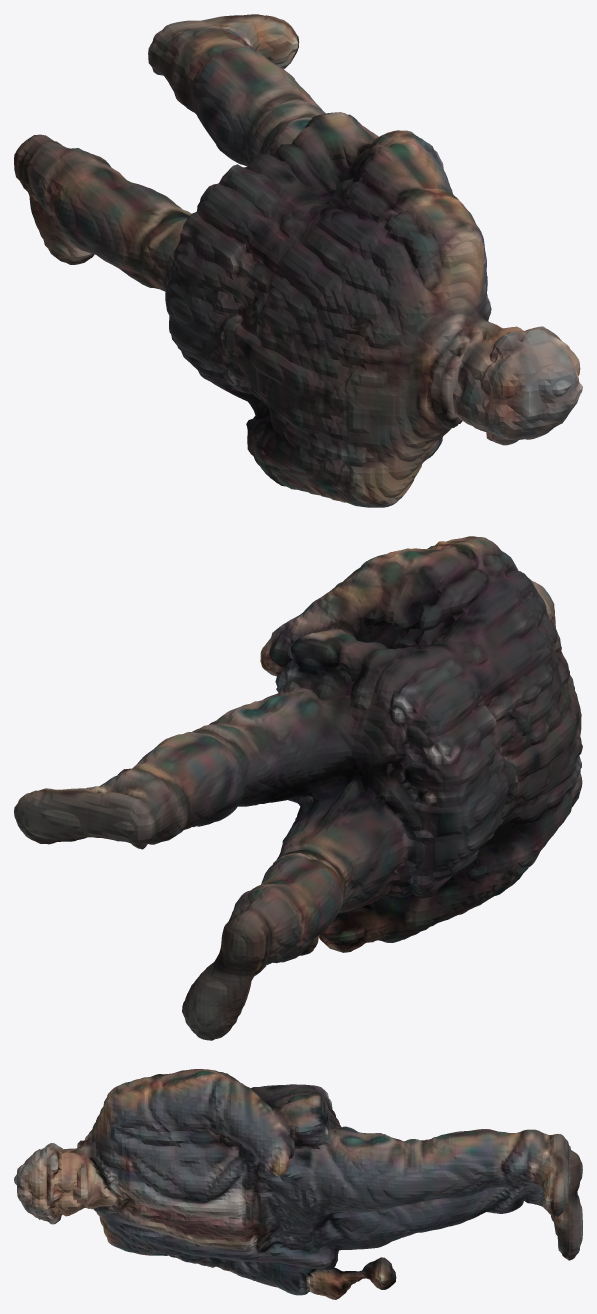
The picture shows the model from 3 angles, top to bottom: view 1: azimuth 30°, elevation 25°; view 2: azimuth 150°, elevation 25°; view 3: azimuth 270°, elevation 25°; orthographic projection. The views are drawn at different scales.
Visible parts, largest first — view 1: world; view 2: world; view 3: world.
Part boxes in pixels (bbox=[...]): world: bbox=[14, 14, 582, 507]; world: bbox=[14, 536, 582, 1040]; world: bbox=[14, 1069, 582, 1299].
Bounding box in the file's own units: 0.4399 × 0.4719 × 1.03.
